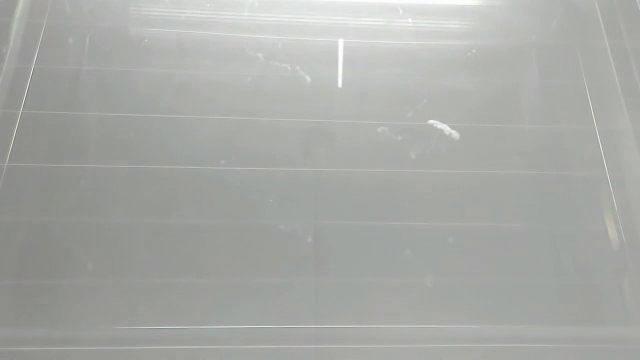alpha: (424, 116, 464, 143), (333, 36, 349, 91)
